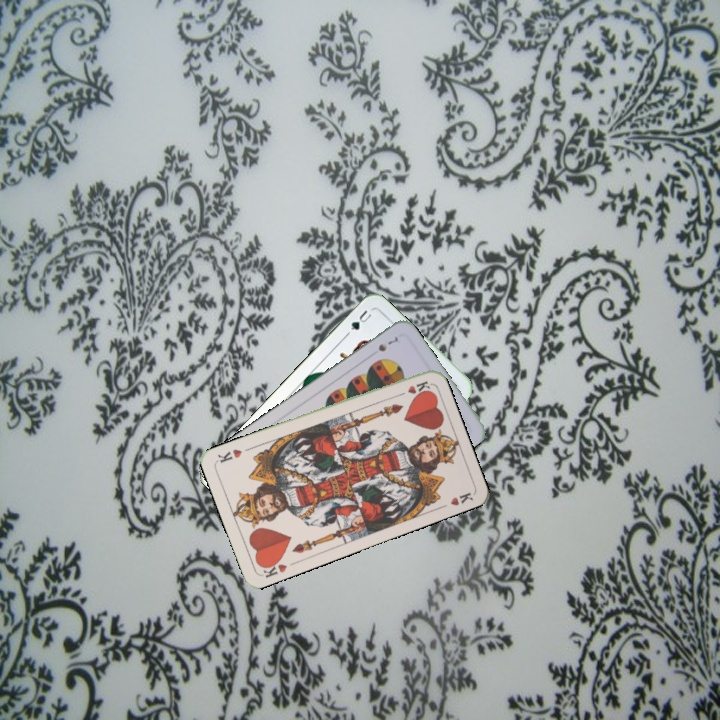GU: (342, 306, 374, 338)
HK: (392, 377, 432, 400), (257, 555, 289, 580)
S7: (374, 333, 401, 354)
